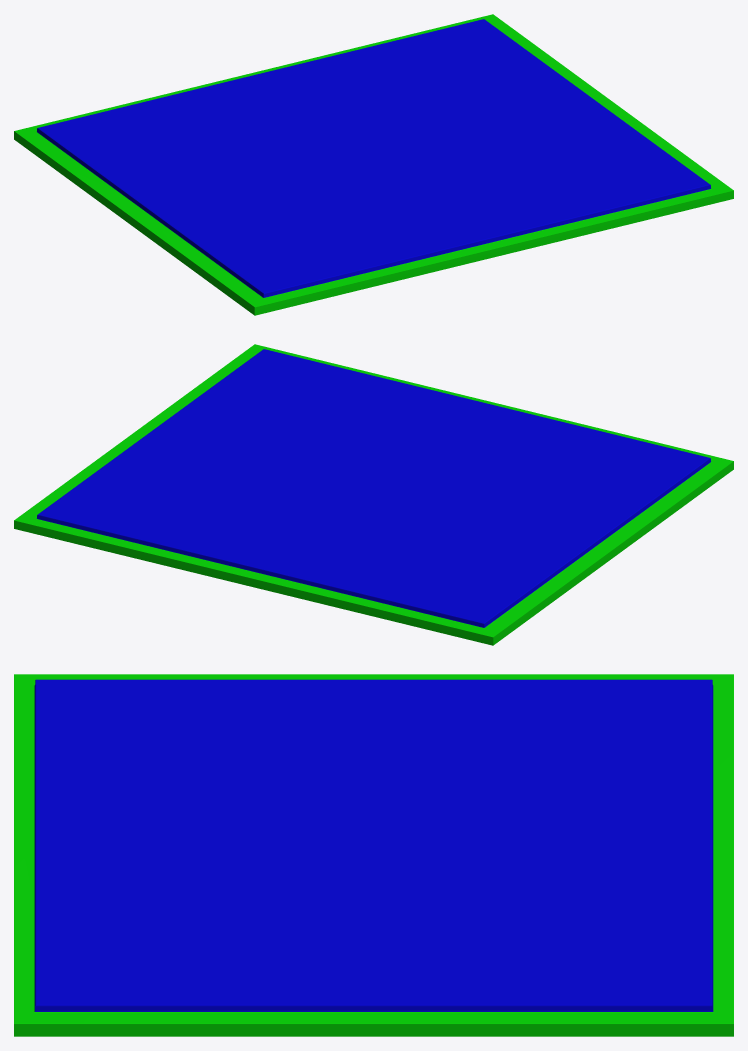
The model's file is paintCanvas.fbx.
The picture shows the model from 3 angles, top to bottom: view 1: azimuth 30°, elevation 25°; view 2: azimuth 150°, elevation 25°; view 3: azimuth 270°, elevation 25°; orthographic projection. The views are drawn at different scales.
Parts seen in each view (by area): view 1: paintCanvas; view 2: paintCanvas; view 3: paintCanvas.
Part boxes in pixels (box(x1,y1,x2,y2)): paintCanvas: box(14, 14, 733, 315); paintCanvas: box(14, 344, 733, 645); paintCanvas: box(14, 674, 733, 1036).
Bounding box in the file's own units: 9.11 × 0.2382 × 7.93.
